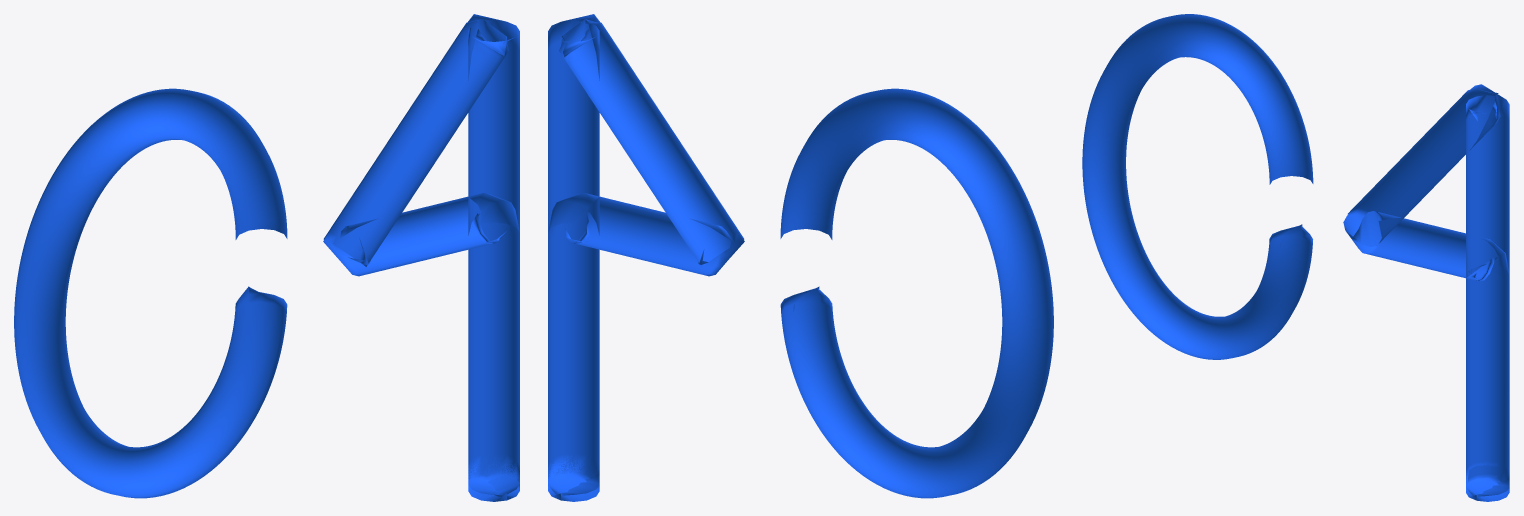
3 views of the same model, side by side, from view 1: azimuth 30°, elevation 25°; view 2: azimuth 150°, elevation 25°; view 3: azimuth 330°, elevation 25° (orthographic). The views are drawn at different scales.
Parts seen in each view (by area): view 1: MorphMesh; view 2: MorphMesh; view 3: MorphMesh.
Part boxes in pixels (bbox=[...]): MorphMesh: bbox=[14, 14, 519, 501]; MorphMesh: bbox=[548, 14, 1053, 501]; MorphMesh: bbox=[1082, 14, 1509, 501].
Size of the model in its own units: 2.34 by 2.15 by 0.21.
